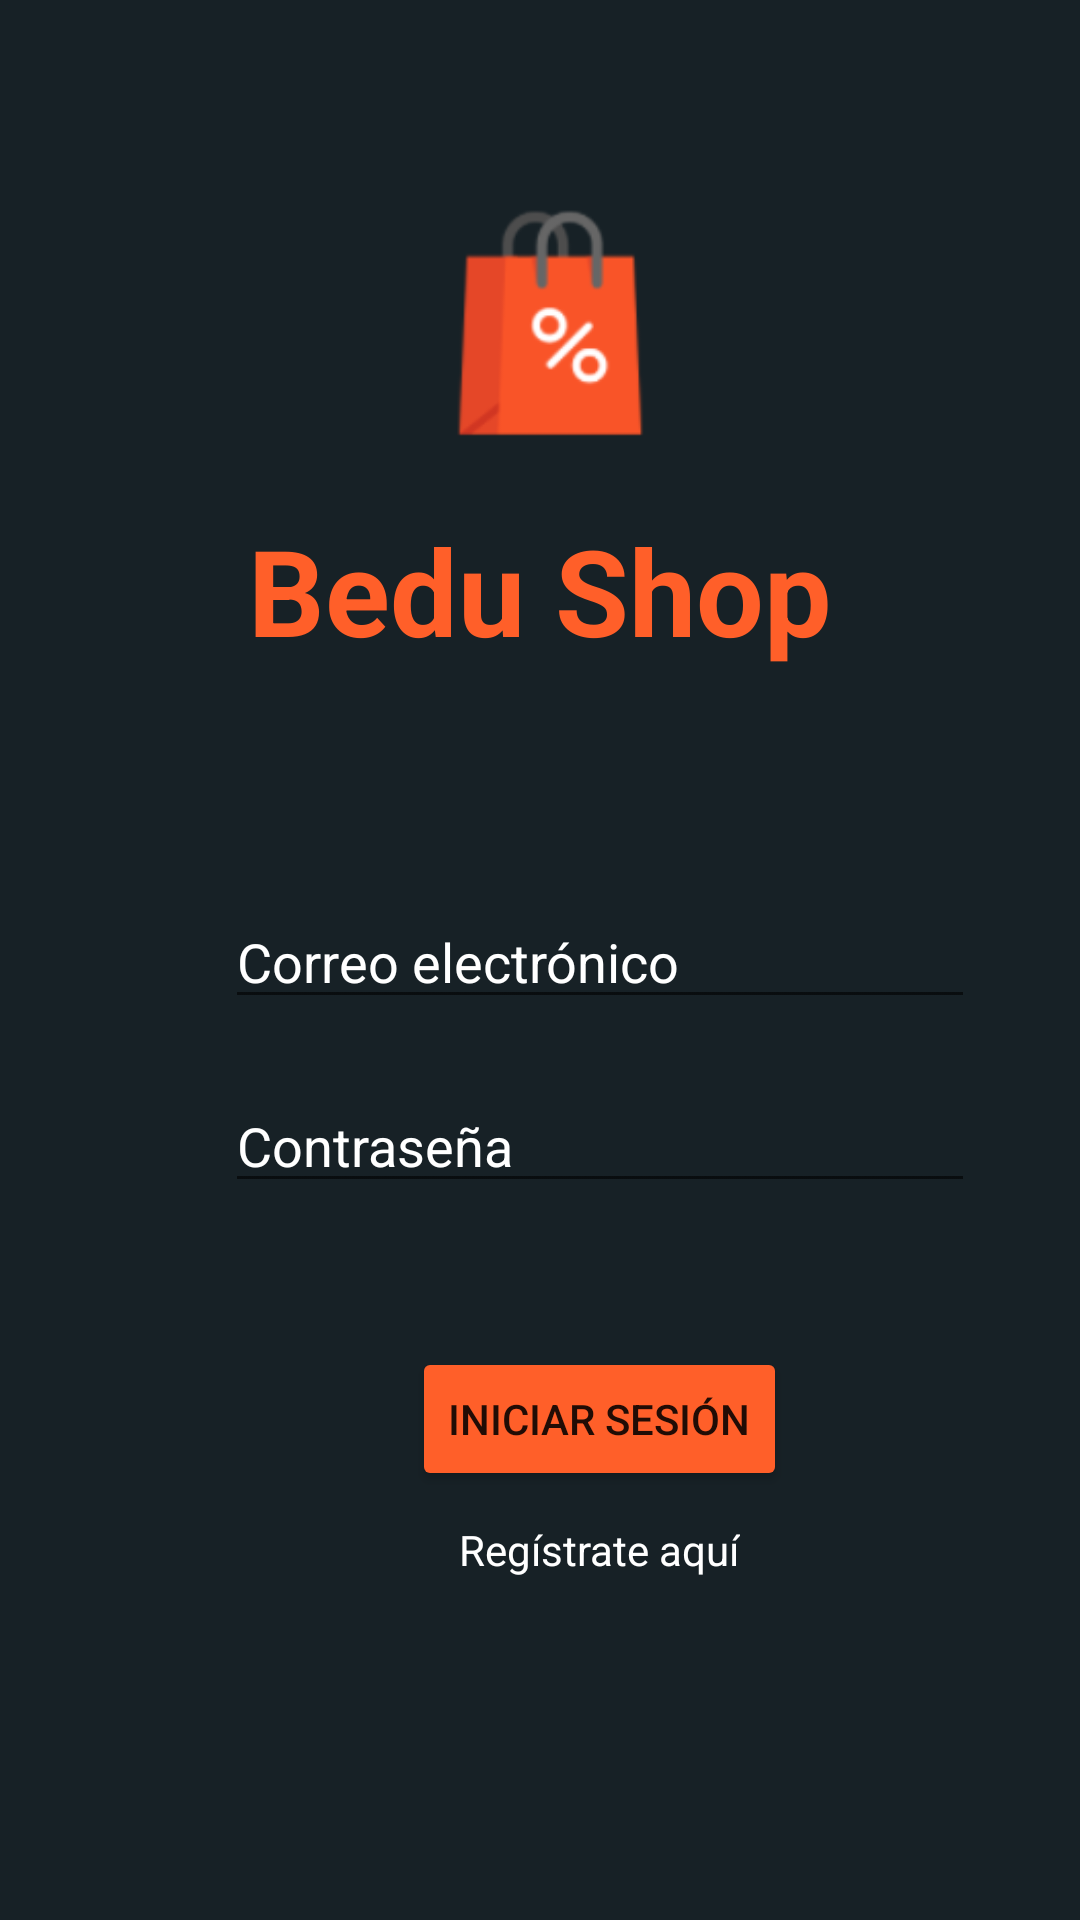

Screen size 1080 × 1920. Icon name, then its center in pixels as [x,y]:
bag: [550,323]
